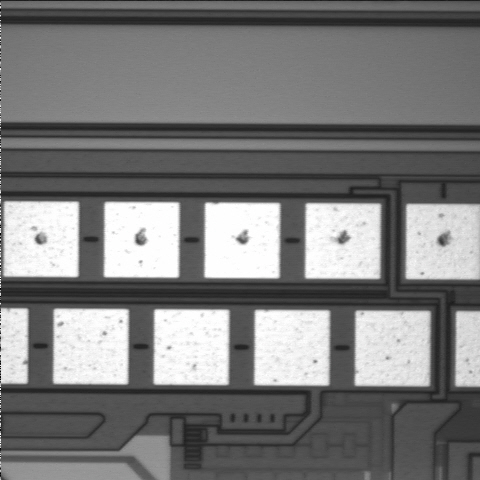pad: (104, 202, 180, 278), (204, 202, 280, 278), (305, 203, 381, 279), (254, 310, 330, 386), (4, 201, 79, 277), (53, 309, 129, 384), (154, 309, 229, 385), (355, 311, 430, 386)
